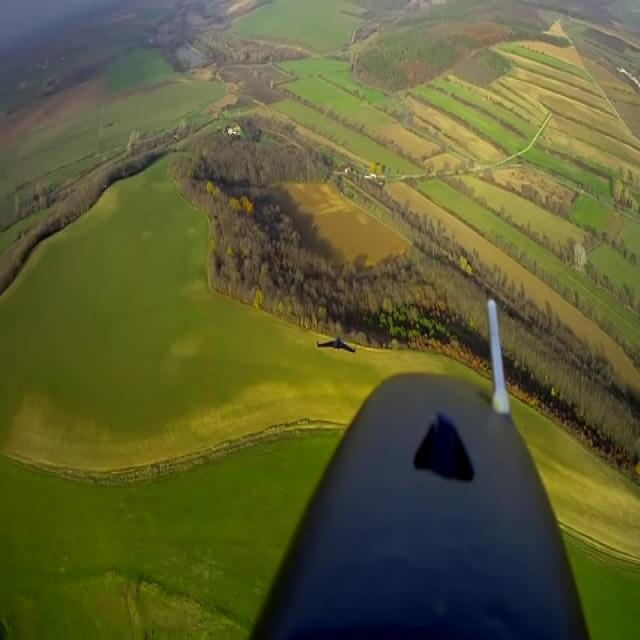iha: (316, 335, 356, 354)
